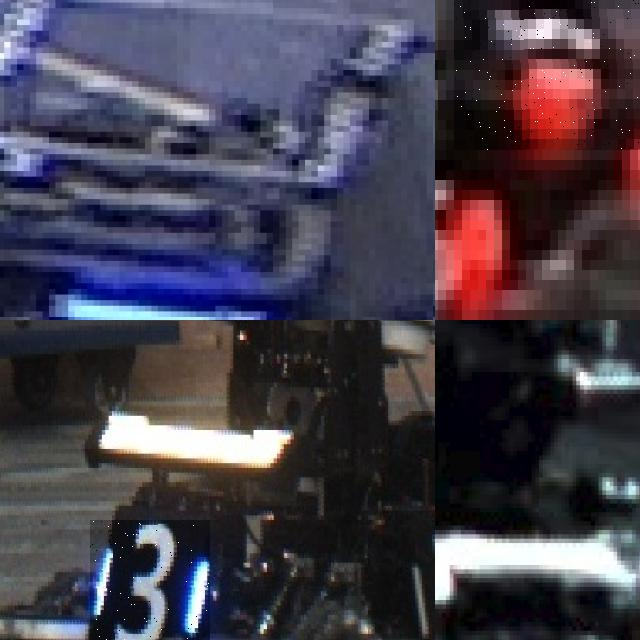B3: (90, 520, 209, 640)
R5: (454, 0, 640, 150), (435, 160, 510, 320)
